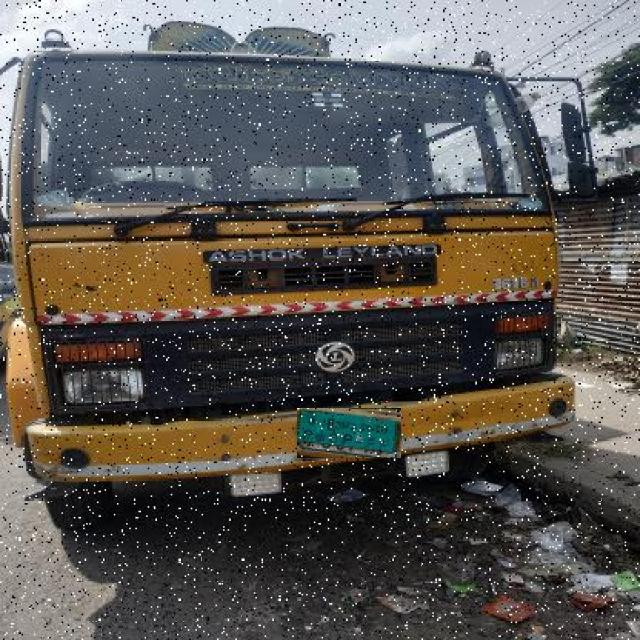numberplate: (297, 408, 401, 458)
